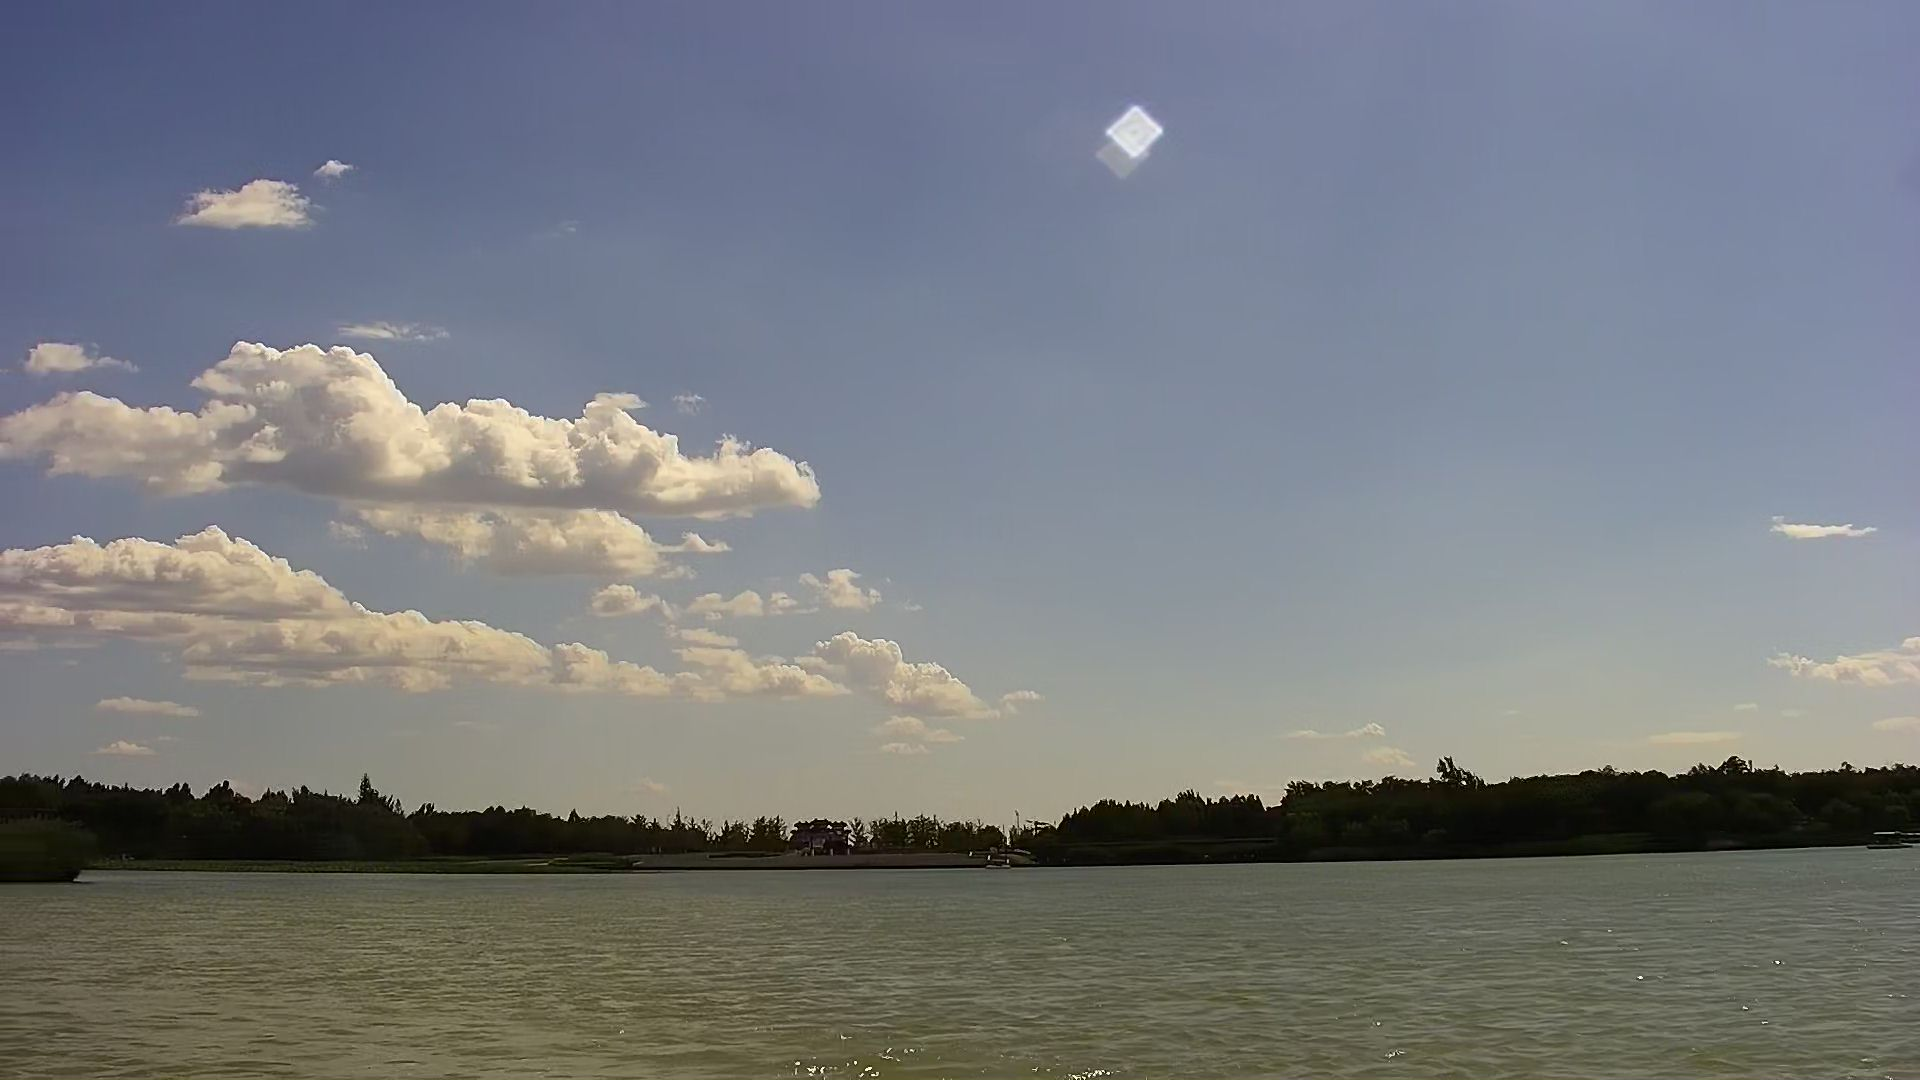boat: (1866, 829, 1898, 847)
